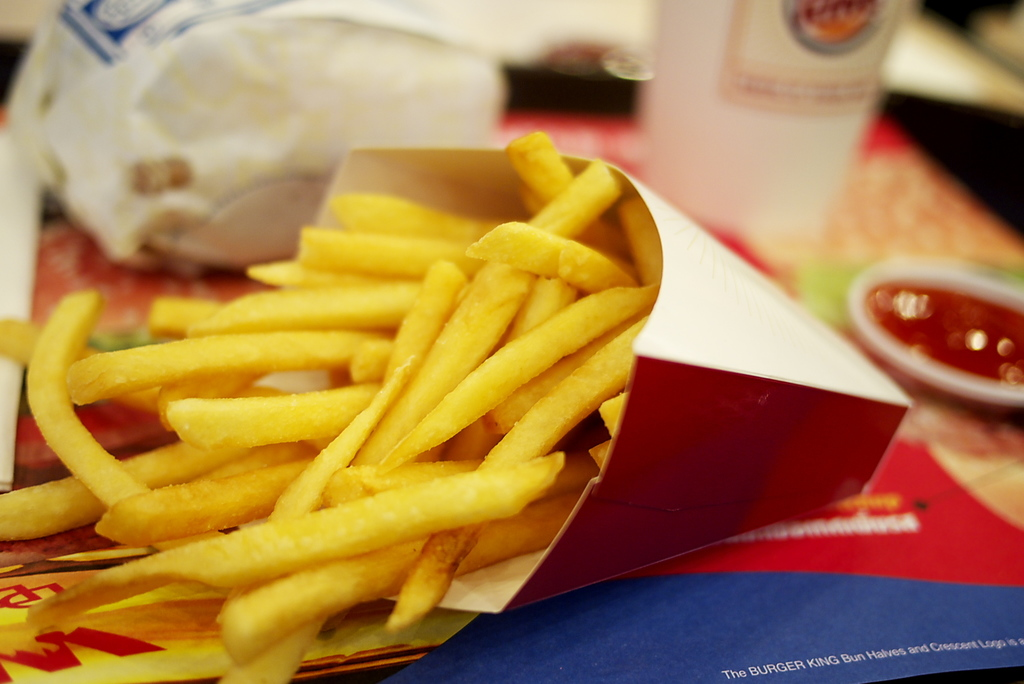French fries: (0, 123, 663, 683)
